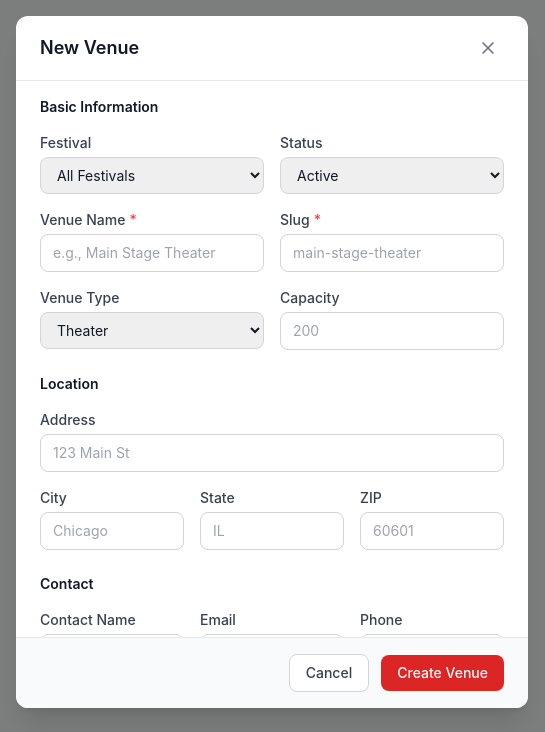
Scenario: VenueForm › form validation › requires slug field
Type "Test" into the field with placeholder "e.g., Main Stage Theater" at (152,253), box [40,234,264,272]
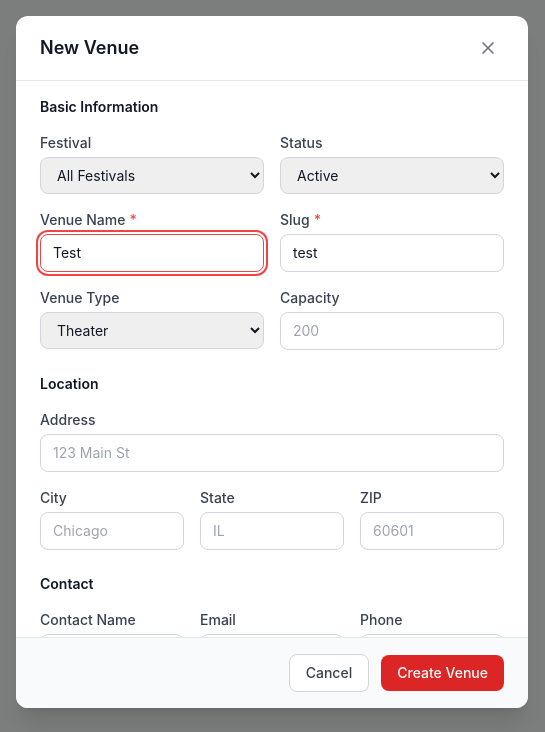
Clear the auto-generated slug
Clear the field with placeholder "main-stage-theater" at (392,253), box [280,234,504,272]
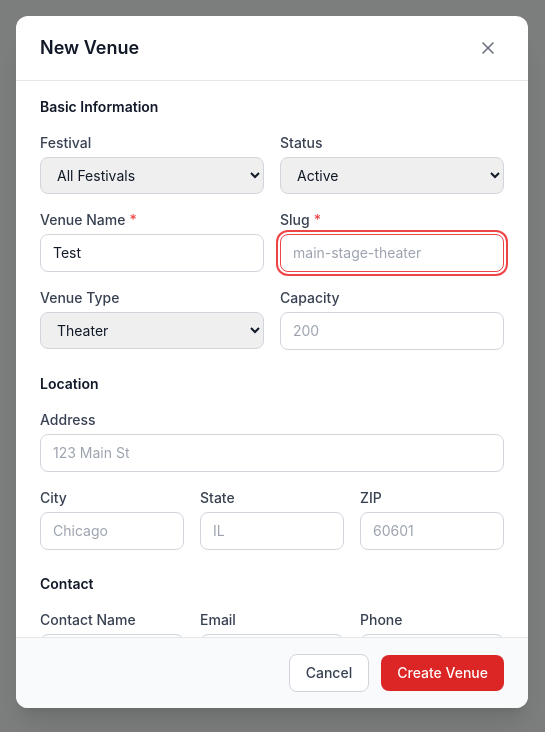
Click the button "Create Venue" at (443,673), box [381,655,504,691]
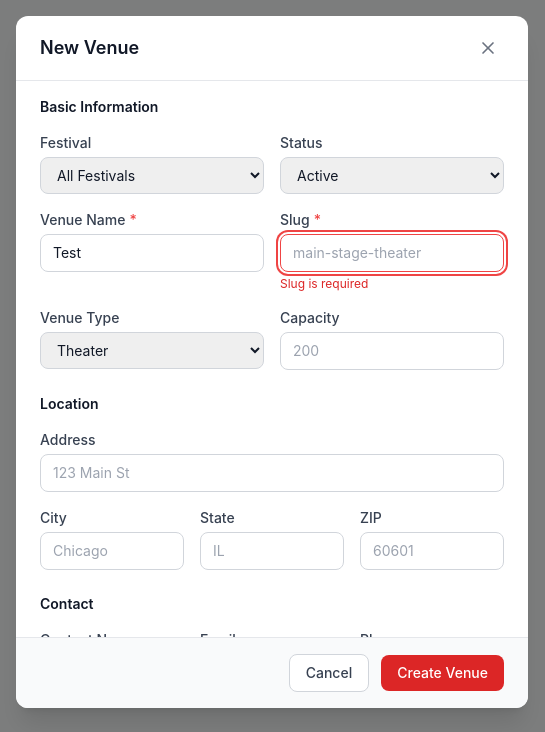
Expected: the text "Slug is required" is shown, [280,276,368,291]
